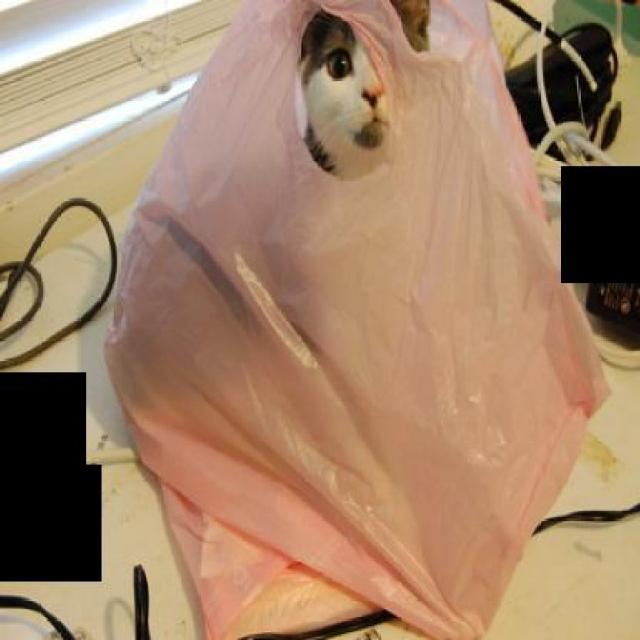plastic bag: (100, 0, 617, 638)
